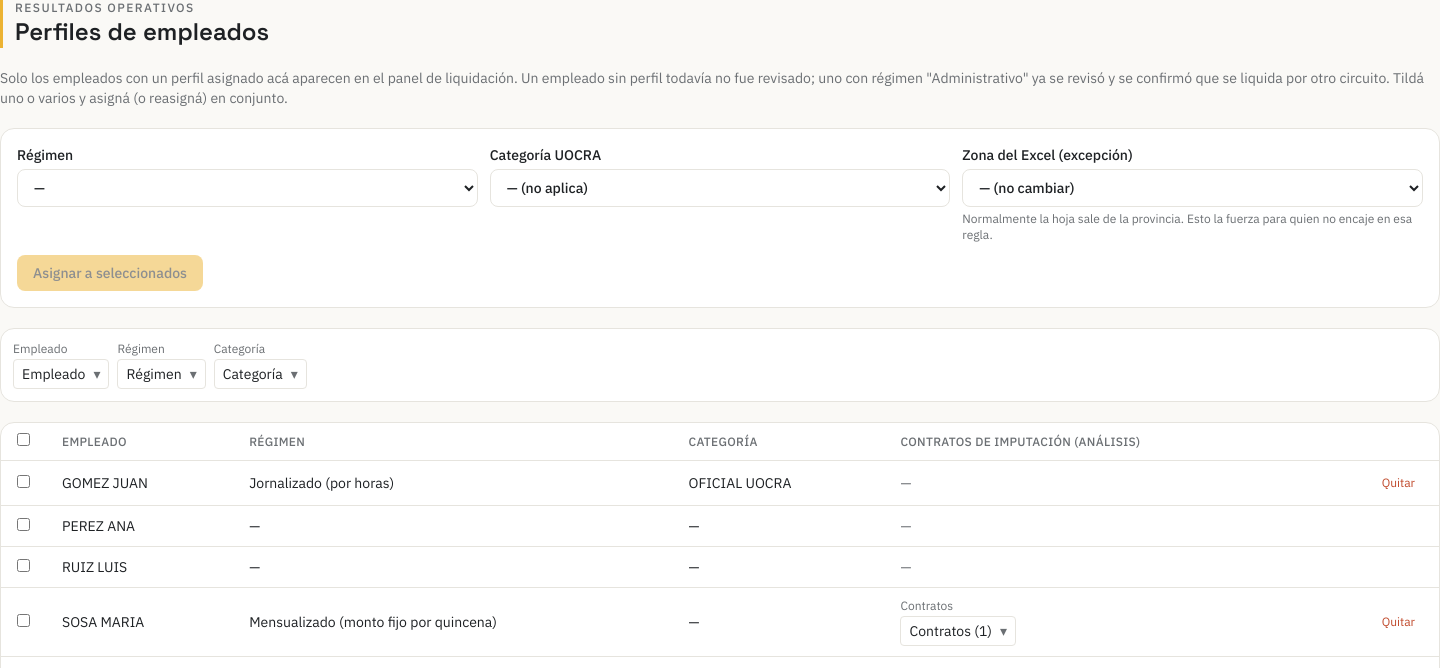
PerfilesLiquidacionPage › el casillero de horas extra pactadas solo aparece con régimen Fijo (ADR-023)
Step 1. Click the checkbox named "Seleccionar PEREZ ANA" → (24, 524), box [17, 518, 30, 531]
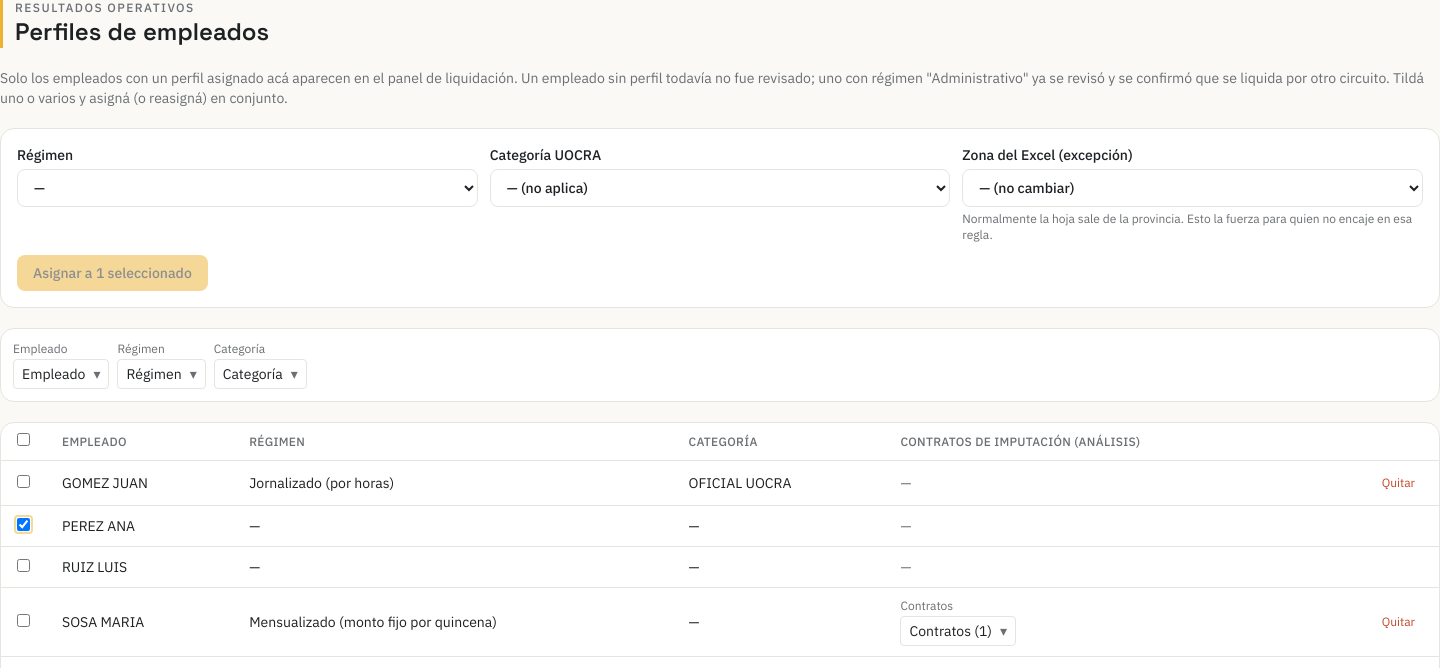
Check: the field labelled "Horas extra pactadas" is not shown
Step 2. Select "Fijo (88hs + horas extra pactadas)" in the dropdown labelled "Régimen" → (247, 188), box [17, 169, 478, 207]
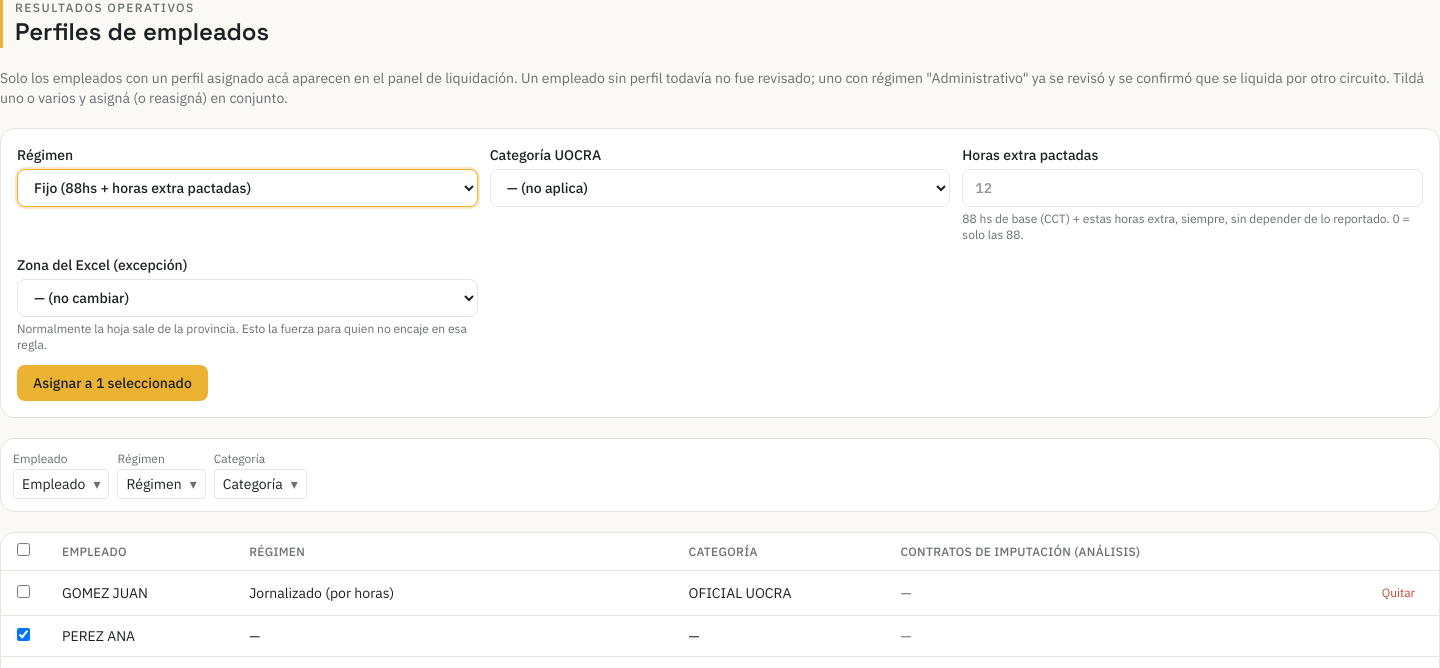
Check: the number field labelled "Horas extra pactadas" is shown, box [962, 169, 1423, 207]
Step 3. Select "Jornalizado (por horas)" in the dropdown labelled "Régimen" → (247, 188), box [17, 169, 478, 207]
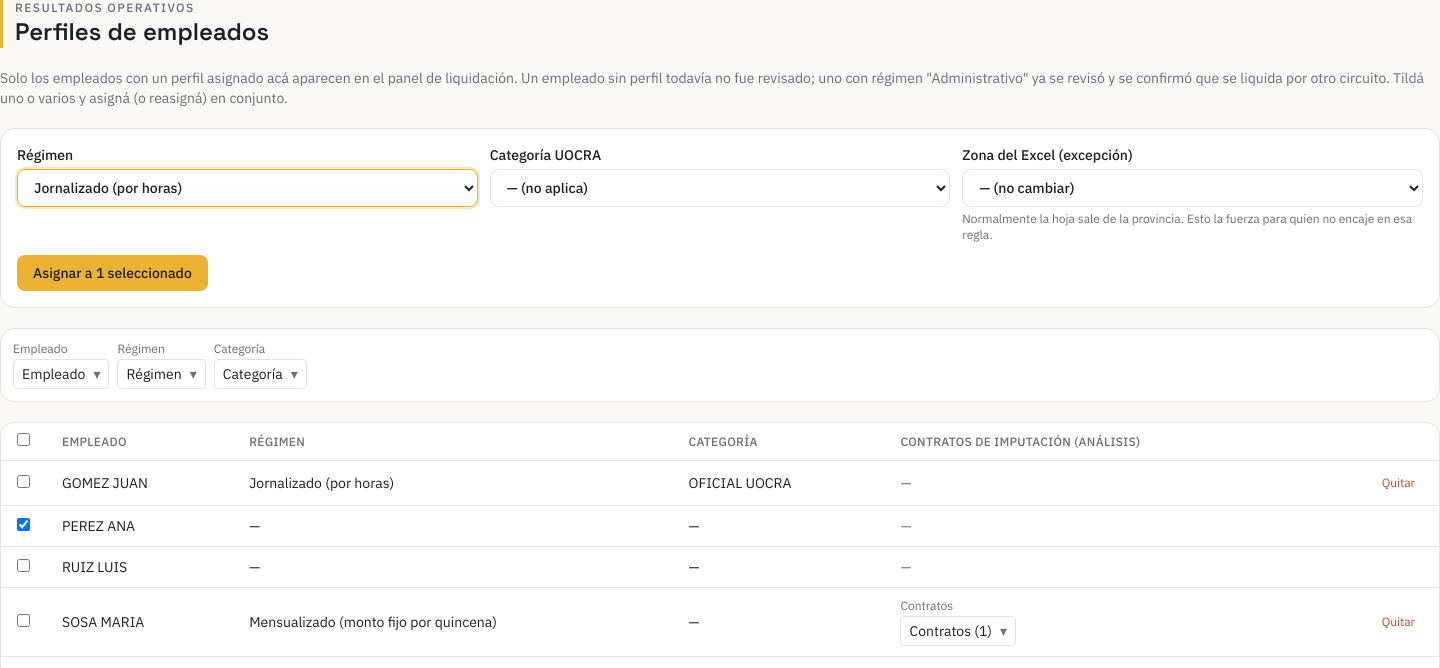
Check: the label labelled "Horas extra pactadas" is gone
